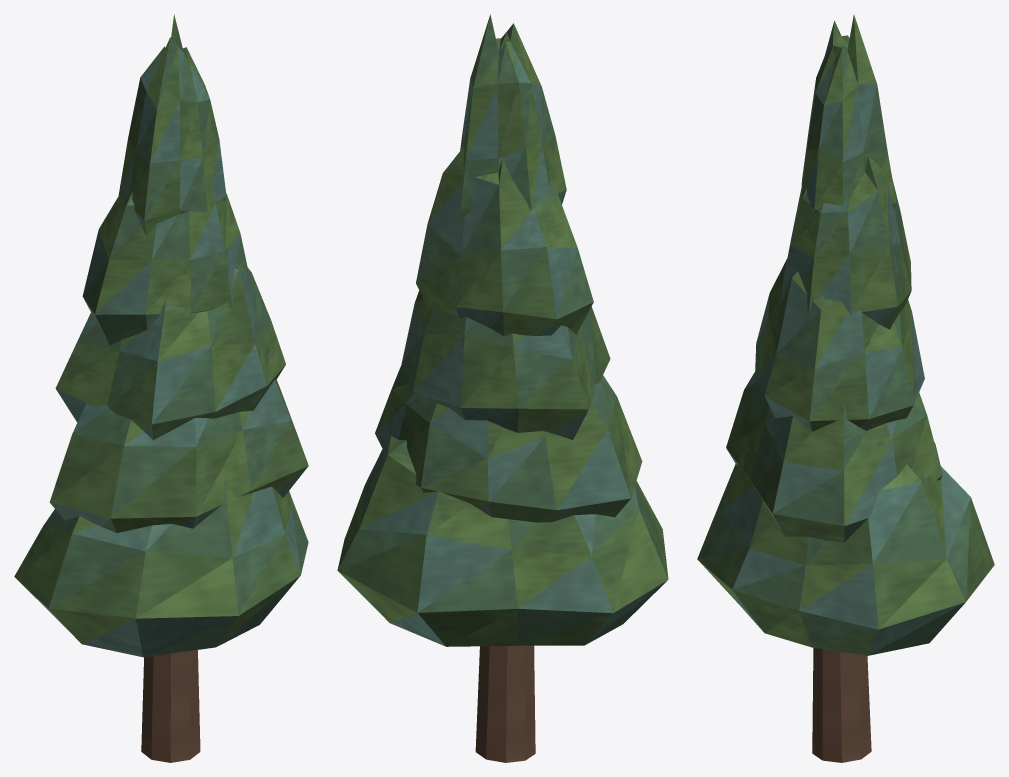
Rendered from tree_pine_02.fbx.
3 views of the same model, side by side, from view 1: azimuth 30°, elevation 25°; view 2: azimuth 150°, elevation 25°; view 3: azimuth 270°, elevation 25° (orthographic).
Parts seen in each view (by area): view 1: tree_pine_02; view 2: tree_pine_02; view 3: tree_pine_02.
Part boxes in pixels (box(x1,y1,x2,y2)): tree_pine_02: box(14, 14, 308, 762); tree_pine_02: box(337, 14, 668, 762); tree_pine_02: box(697, 15, 994, 762).
Size of the model in its own units: 468 by 1155 by 420.
Materials: 1 (1 with a texture image).
